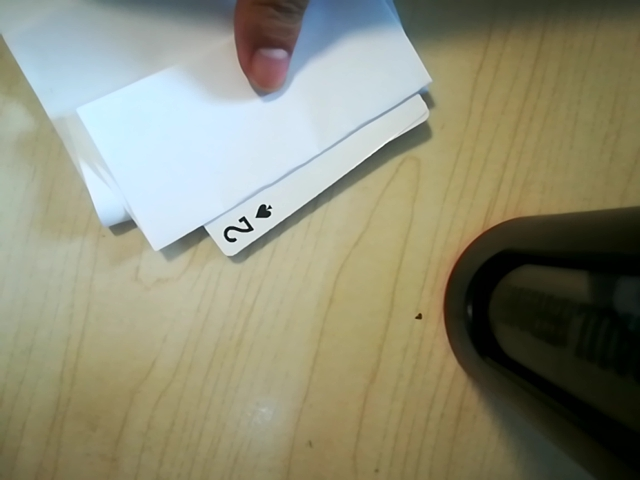ht 2: (208, 193, 286, 259)
